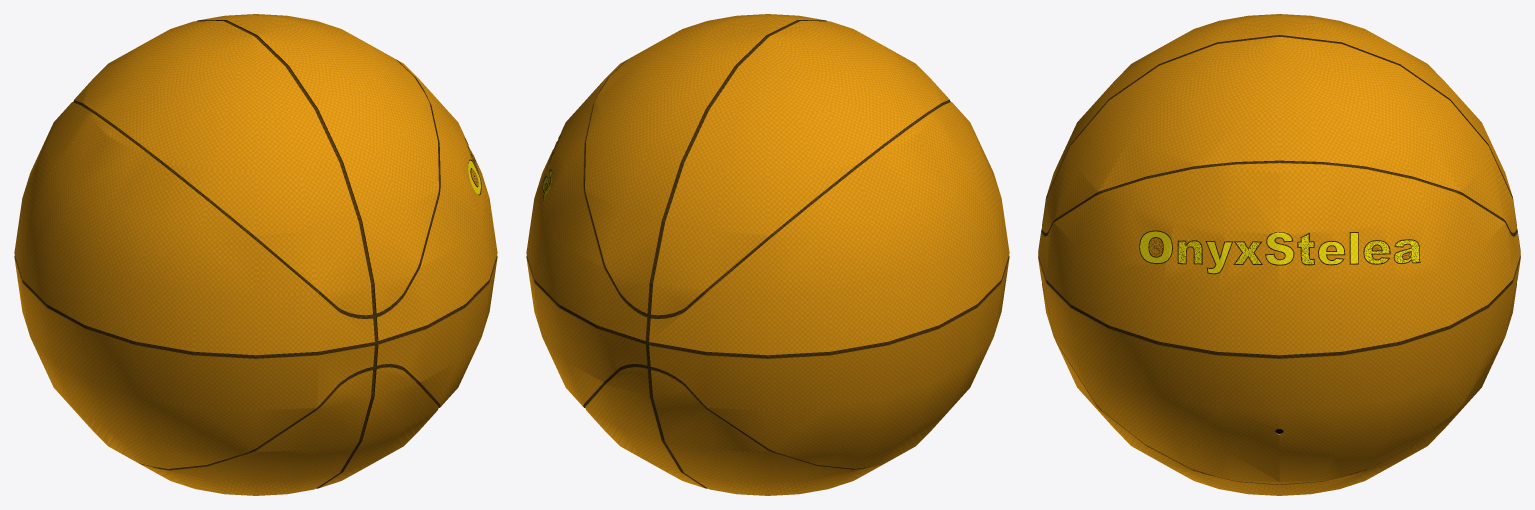
Rendered from basketball v.dae.
The picture shows the model from 3 angles, left to right: view 1: azimuth 30°, elevation 25°; view 2: azimuth 150°, elevation 25°; view 3: azimuth 270°, elevation 25°; orthographic projection.
Visible parts, largest first — view 1: Basketball (×9); view 2: Basketball (×9); view 3: Basketball (×8).
Part boxes in pixels (x1,y1,x2,y2): Basketball (×9): [14, 14, 497, 495]; Basketball (×9): [526, 14, 1009, 495]; Basketball (×8): [1038, 14, 1520, 495].
Bounding box in the file's own units: 9.5 × 9.49 × 9.5.
Materials: 4 (4 with a texture image).
